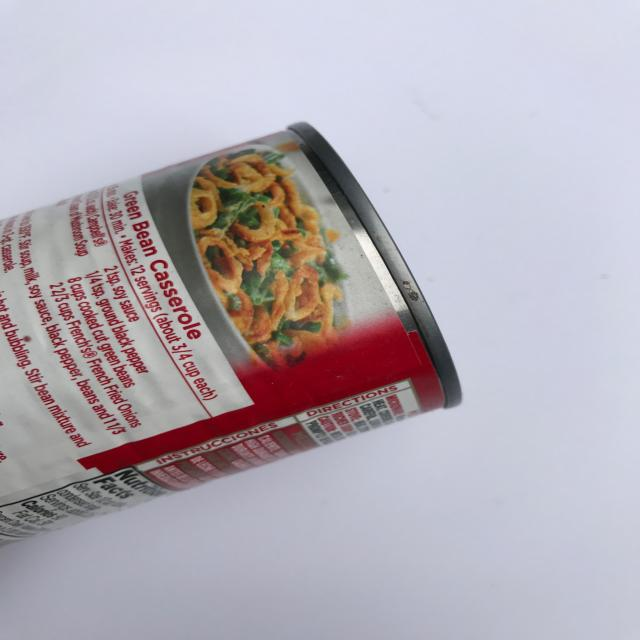metal: (1, 120, 463, 547)
